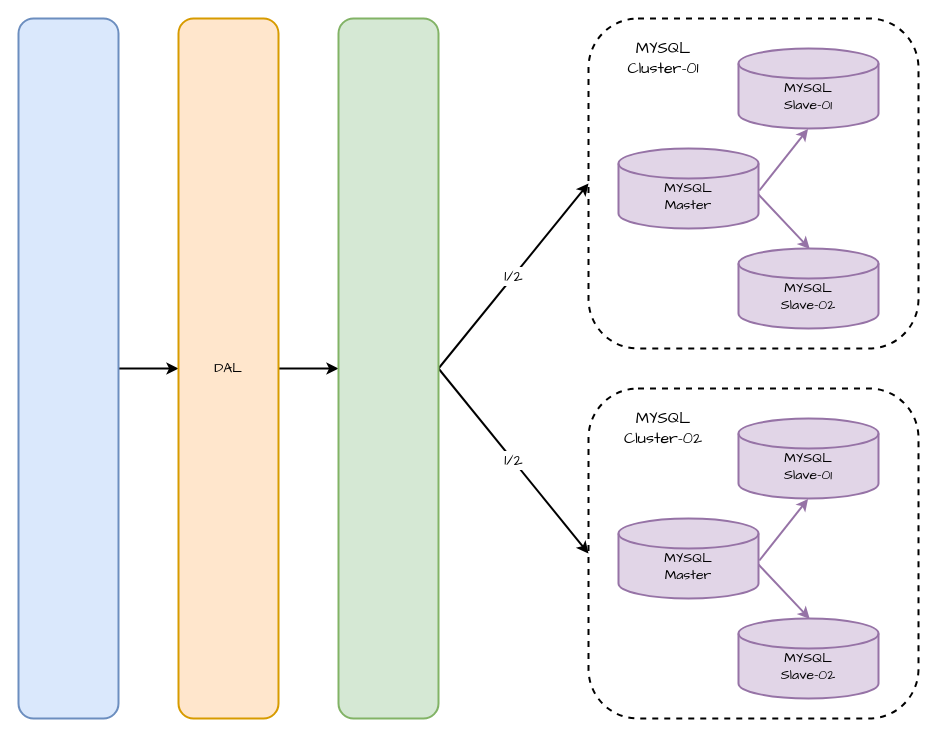
Image size: 936x736. Some labels were removed from this diagram. Each missing label, with the centre of its shape:
"App" belongs at point (68, 368).
"Cache" belongs at point (388, 368).
